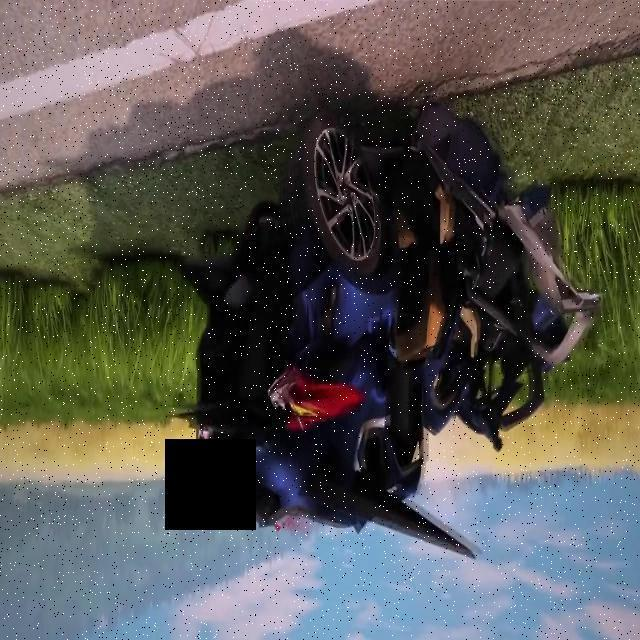person: (128, 132, 610, 586)
